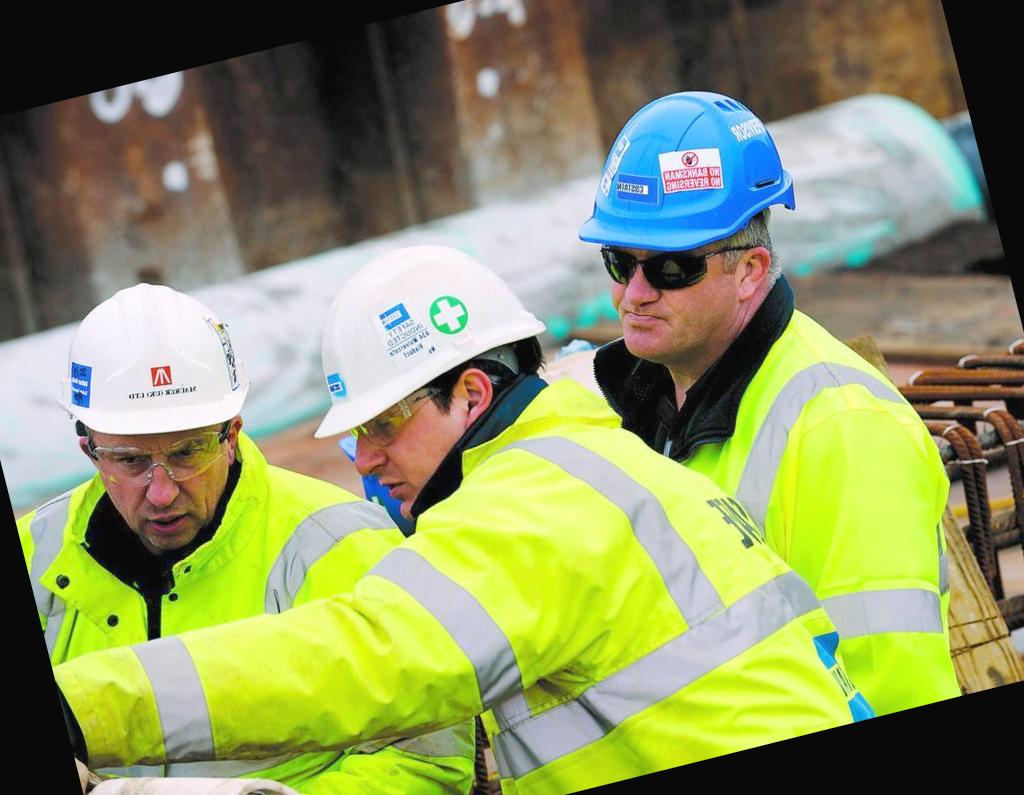helmet: (272, 206, 554, 445), (553, 73, 815, 293), (26, 261, 286, 473)
person: (552, 50, 998, 758), (263, 196, 745, 795), (0, 234, 469, 795)
